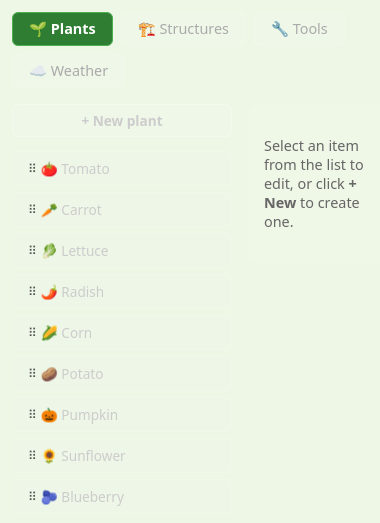
Test: ContentCreator — tab switching › switches to Weather tab and shows default weather
Click the button "☁️ Weather" at (69, 71), box [12,54,125,88]
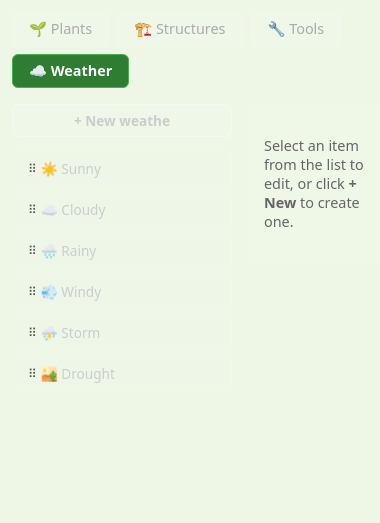
expect the text "☀️ Sunny" is shown: met, box [41,159,101,178]
expect the text "🏜️ Drought" is shown: met, box [41,364,115,383]
